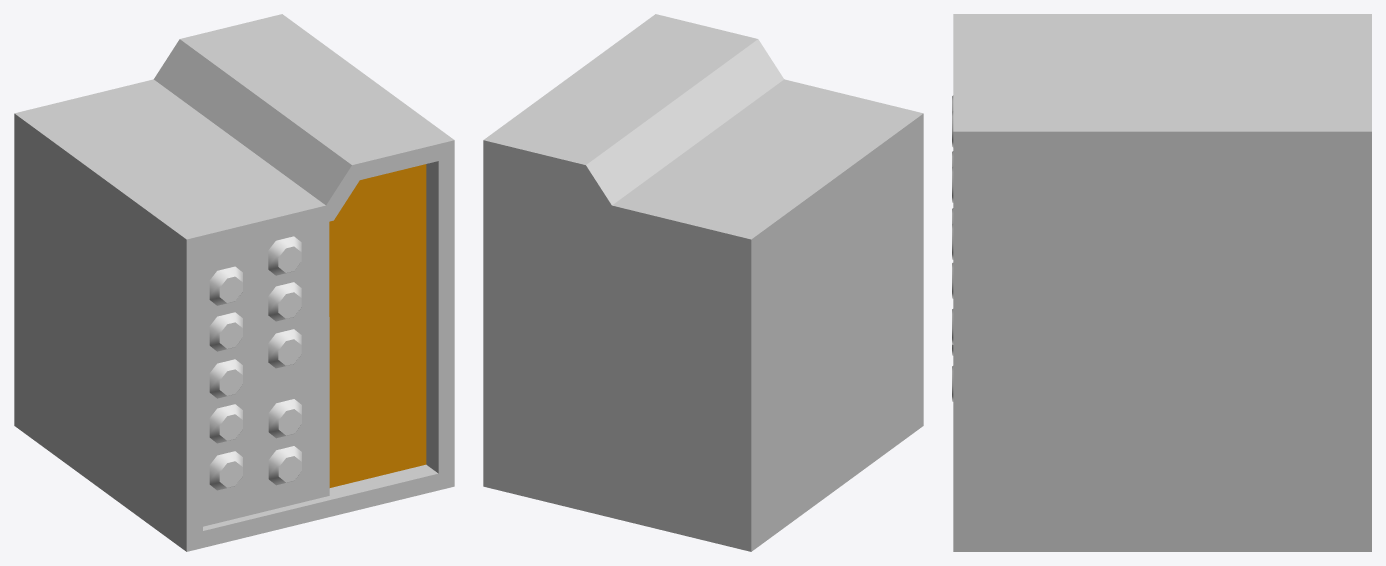
File: HealthManager.fbx
3 views of the same model, side by side, from view 1: azimuth 30°, elevation 25°; view 2: azimuth 150°, elevation 25°; view 3: azimuth 270°, elevation 25° (orthographic). The views are drawn at different scales.
Parts seen in each view (by area): view 1: Cube.012, TurnButton.009|TurnButton|Dupli|, TurnButton.010|TurnButton|Dupli|, TurnButton.001|TurnButton|Dupli|, TurnButton.004|TurnButton|Dupli|, TurnButton.005|TurnButton|Dupli|, TurnButton.008|TurnButton|Dupli|, TurnButton.003|TurnButton|Dupli|, TurnButton.006|TurnButton|Dupli|, TurnButton.007|TurnButton|Dupli|, TurnButton.002|TurnButton|Dupli|; view 2: Cube.012; view 3: Cube.012.
Boxes of the visible parts, box(x1,y1,x2,y2) form: Cube.012: box(14, 14, 454, 551); TurnButton.009|TurnButton|Dupli|: box(268, 282, 301, 321); TurnButton.010|TurnButton|Dupli|: box(268, 329, 301, 368); TurnButton.001|TurnButton|Dupli|: box(209, 266, 242, 305); TurnButton.004|TurnButton|Dupli|: box(209, 404, 242, 443); TurnButton.005|TurnButton|Dupli|: box(209, 451, 242, 490); TurnButton.008|TurnButton|Dupli|: box(268, 236, 301, 275); TurnButton.003|TurnButton|Dupli|: box(209, 359, 242, 398); TurnButton.006|TurnButton|Dupli|: box(268, 399, 301, 438); TurnButton.007|TurnButton|Dupli|: box(268, 446, 301, 485); TurnButton.002|TurnButton|Dupli|: box(209, 312, 242, 351); Cube.012: box(483, 14, 923, 551); Cube.012: box(953, 14, 1371, 551).
Size of the model in its own units: 0.71 by 0.8769 by 0.7936.
